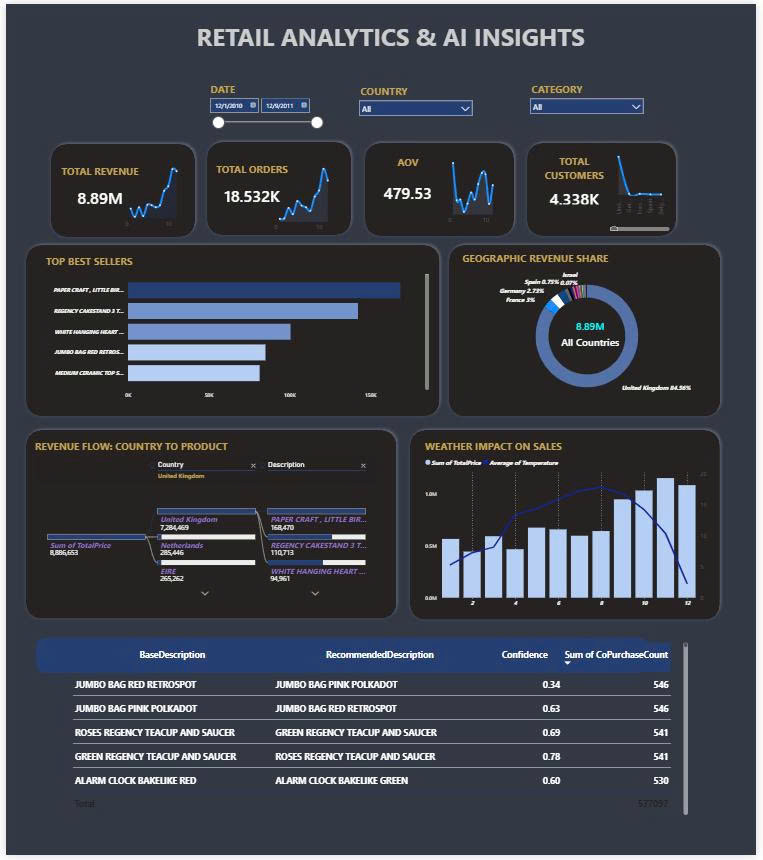

The page's visual inventory and layout, read from the dashboard file:
{"tool":"powerbi","page":{"name":"Page 1","canvas":[1500,1700],"ordinal":0},"visuals":[{"type":"cardVisual","title":"TOTAL CUSTOMERS","fields":{"Data":["Count(retail_analytics fact_sales.CustomerID)"]},"box":[1073.8,301.4,165.2,114],"z":0,"group":"g16"},{"type":"cardVisual","title":"AOV","fields":{"Data":["retail_analytics fact_sales.AOV"]},"box":[731.1,302.2,183.8,114],"z":0,"group":"g17"},{"type":"cardVisual","title":"TOTAL ORDERS","fields":{"Data":["Count(retail_analytics fact_sales.InvoiceNo)"]},"box":[417.6,314.6,188.4,97.7],"z":0,"group":"g15"},{"type":"cardVisual","title":"TOTAL REVENUE","fields":{"Data":["Sum(retail_analytics fact_sales.TotalPrice)"]},"box":[112.8,319.6,188.4,97.7],"z":0,"group":"g14"},{"type":"shape","box":[818.8,844.2,635.8,395.7],"z":0},{"type":"areaChart","fields":{"Y":["Sum(retail_analytics gold_sales_by_date.TotalRevenue)"],"Category":["retail_analytics gold_sales_by_date.Month"]},"box":[243.9,268.3,155.4,203.6],"z":1000,"group":"g14"},{"type":"areaChart","fields":{"Y":["Sum(retail_analytics gold_sales_by_date.NumberOfInvoices)"],"Category":["retail_analytics gold_sales_by_date.Month"]},"box":[542.8,301.4,160.7,167.9],"z":1000,"group":"g15"},{"type":"shape","box":[50.8,474.7,843.3,358.3],"z":1000,"group":"g9"},{"type":"shape","box":[109.8,1251.9,1226,70],"z":1000},{"type":"shape","box":[413.3,268.4,304,202],"z":2000},{"type":"shape","box":[729.6,269.5,314,202],"z":2000,"group":"g13"},{"type":"shape","box":[1052.9,269.5,314,202],"z":2000,"group":"g5"},{"type":"shape","box":[51.1,844.2,757.1,393.1],"z":2000,"group":"g6"},{"type":"shape","box":[102.4,271.1,304,202],"z":3000},{"type":"group","id":"g1","title":"Group 2","box":[731.1,290.5,297.7,174],"z":4000,"group":"g13"},{"type":"group","id":"g2","title":"Group 2","box":[1073.8,290.5,278.3,174],"z":4000,"group":"g5"},{"type":"shape","box":[896.6,474.3,558.6,358.6],"z":4000},{"type":"group","id":"g3","title":"Group 13","box":[417.6,301.4,285.9,167.9],"z":7000},{"type":"group","id":"g4","title":"Group 10","box":[116.8,1260.7,1243.3,355],"z":8000},{"type":"group","id":"g5","title":"Group 14","box":[1052.9,269.5,314.1,202.4],"z":9000},{"type":"slicer","fields":{"Values":["retail_analytics dim_product.Description"]},"box":[1057.9,150.3,246.7,170],"z":10000},{"type":"group","id":"g6","title":"Group 16","box":[51.1,844.2,757.1,393.1],"z":10000,"group":"g10"},{"type":"slicer","fields":{"Values":["retail_analytics dim_customer.Country","retail_analytics fact_sales.CustomerID"]},"box":[714.5,153.7,246.7,93.3],"z":11000},{"type":"slicer","fields":{"Values":["retail_analytics dim_date.FullDate"]},"box":[414.5,150.3,246.7,163.3],"z":12000},{"type":"group","id":"g7","title":"Group 13","box":[1073.8,301.4,165.2,114],"z":12000,"group":"g2"},{"type":"group","id":"g8","title":"Group 13","box":[731.1,302.2,183.8,114],"z":12000,"group":"g1"},{"type":"donutChart","title":"GEOGRAPHIC REVENUE SHARE","fields":{"Y":["Sum(retail_analytics fact_sales.UnitPrice)"],"Category":["retail_analytics dim_customer.Country"]},"box":[928.1,487.4,507.5,315],"z":13000},{"type":"group","id":"g9","title":"Group 3","box":[50.8,474.7,843.3,358.3],"z":14000},{"type":"barChart","title":"TOP BEST SELLERS","fields":{"Y":["Sum(retail_analytics fact_sales.TotalPrice)"],"Category":["retail_analytics dim_product.Description"]},"box":[86.9,489.7,790,315],"z":14000,"group":"g9"},{"type":"cardVisual","fields":{"Data":["Sum(retail_analytics fact_sales.TotalPrice)","retail_analytics fact_sales.Center Label - Country Name"]},"box":[1073.2,607.5,229.5,100.2],"z":15000},{"type":"decompositionTreeVisual","title":"REVENUE FLOW: COUNTRY TO PRODUCT","fields":{"Analyze":["Sum(retail_analytics fact_sales.TotalPrice)"],"ExplainBy":["retail_analytics dim_customer.Country","retail_analytics dim_product.Description"]},"box":[65.1,859.9,718.8,361.8],"z":15000,"group":"g10"},{"type":"tableEx","title":"TOP PERFORMING COUNTRIES","fields":{"Values":["retail_analytics gold_product_recommendations.BaseDescription","retail_analytics gold_product_recommendations.RecommendedDescription","retail_analytics gold_product_recommendations.Confidence","Sum(retail_analytics gold_product_recommendations.CoPurchaseCount)"]},"box":[116.8,1260.7,1243.3,355],"z":15000,"group":"g12"},{"type":"group","id":"g10","title":"Group 8","box":[51.1,844.2,757.1,393.1],"z":16000},{"type":"textbox","box":[392.3,44.3,854.3,105.7],"z":17000},{"type":"group","id":"g11","title":"Group 13","box":[112.8,268.3,286.5,203.6],"z":18000},{"type":"group","id":"g12","title":"Group 6","box":[116.8,1260.7,1243.3,355],"z":18000,"group":"g4"},{"type":"group","id":"g13","title":"Group 14","box":[729.6,269.5,314.1,202.4],"z":19000},{"type":"areaChart","fields":{"Category":["retail_analytics gold_sales_by_date.Month"],"Y":["retail_analytics fact_sales.AOV"]},"box":[890.8,290.5,138,174],"z":19000,"group":"g1"},{"type":"areaChart","fields":{"Y":["Sum(retail_analytics gold_sales_by_country.NumberOfCustomers)"],"Category":["retail_analytics gold_sales_by_country.Country"]},"box":[1214.1,290.5,138,174],"z":19000,"group":"g2"},{"type":"lineStackedColumnComboChart","title":"WEATHER IMPACT ON SALES","fields":{"Category":["retail_analytics dim_date.Month"],"Y":["Sum(retail_analytics fact_sales.TotalPrice)"],"Y2":["Avg(retail_analytics dim_weather.Temperature)"]},"box":[845.1,860,587.1,361.4],"z":20000},{"type":"group","id":"g14","title":"Group 5","box":[112.8,268.3,286.5,203.6],"z":30003,"group":"g11"},{"type":"group","id":"g15","title":"Group 5","box":[417.6,301.4,285.9,167.9],"z":30003,"group":"g3"},{"type":"group","id":"g16","title":"Group 5","box":[1073.8,301.4,165.2,114],"z":30003,"group":"g7"},{"type":"group","id":"g17","title":"Group 5","box":[731.1,302.2,183.8,114],"z":30003,"group":"g8"}]}

Visuals, with their boxes in screenshot pixels (x1, y1, x2, y2), scaled from the page's 1500x1700 canvas onto the 763x860 screenshot:
"TOTAL CUSTOMERS" cardVisual: [left=546, top=152, right=630, bottom=210]
"AOV" cardVisual: [left=372, top=153, right=465, bottom=211]
"TOTAL ORDERS" cardVisual: [left=212, top=159, right=308, bottom=209]
"TOTAL REVENUE" cardVisual: [left=57, top=162, right=153, bottom=211]
shape: [left=416, top=427, right=740, bottom=627]
areaChart - Sum(retail_analytics gold_sales_by_date.TotalRevenue) x retail_analytics gold_sales_by_date.Month: [left=124, top=136, right=203, bottom=239]
areaChart - Sum(retail_analytics gold_sales_by_date.NumberOfInvoices) x retail_analytics gold_sales_by_date.Month: [left=276, top=152, right=358, bottom=237]
shape: [left=26, top=240, right=455, bottom=421]
shape: [left=56, top=633, right=679, bottom=669]
shape: [left=210, top=136, right=365, bottom=238]
shape: [left=371, top=136, right=531, bottom=239]
shape: [left=536, top=136, right=695, bottom=239]
shape: [left=26, top=427, right=411, bottom=626]
shape: [left=52, top=137, right=207, bottom=239]
"Group 2" group: [left=372, top=147, right=523, bottom=235]
"Group 2" group: [left=546, top=147, right=688, bottom=235]
shape: [left=456, top=240, right=740, bottom=421]
"Group 13" group: [left=212, top=152, right=358, bottom=237]
"Group 10" group: [left=59, top=638, right=692, bottom=817]
"Group 14" group: [left=536, top=136, right=695, bottom=239]
slicer - retail_analytics dim_product.Description: [left=538, top=76, right=664, bottom=162]
"Group 16" group: [left=26, top=427, right=411, bottom=626]
slicer - retail_analytics dim_customer.Country x retail_analytics fact_sales.CustomerID: [left=363, top=78, right=489, bottom=125]
slicer - retail_analytics dim_date.FullDate: [left=211, top=76, right=336, bottom=159]
"Group 13" group: [left=546, top=152, right=630, bottom=210]
"Group 13" group: [left=372, top=153, right=465, bottom=211]
"GEOGRAPHIC REVENUE SHARE" donutChart: [left=472, top=247, right=730, bottom=406]
"Group 3" group: [left=26, top=240, right=455, bottom=421]
"TOP BEST SELLERS" barChart: [left=44, top=248, right=446, bottom=407]
cardVisual - Sum(retail_analytics fact_sales.TotalPrice) x retail_analytics fact_sales.Center Label - Country Name: [left=546, top=307, right=663, bottom=358]
"REVENUE FLOW: COUNTRY TO PRODUCT" decompositionTreeVisual: [left=33, top=435, right=399, bottom=618]
"TOP PERFORMING COUNTRIES" tableEx: [left=59, top=638, right=692, bottom=817]
"Group 8" group: [left=26, top=427, right=411, bottom=626]
textbox: [left=200, top=22, right=634, bottom=76]
"Group 13" group: [left=57, top=136, right=203, bottom=239]
"Group 6" group: [left=59, top=638, right=692, bottom=817]
"Group 14" group: [left=371, top=136, right=531, bottom=239]
areaChart - retail_analytics gold_sales_by_date.Month x retail_analytics fact_sales.AOV: [left=453, top=147, right=523, bottom=235]
areaChart - Sum(retail_analytics gold_sales_by_country.NumberOfCustomers) x retail_analytics gold_sales_by_country.Country: [left=618, top=147, right=688, bottom=235]
"WEATHER IMPACT ON SALES" lineStackedColumnComboChart: [left=430, top=435, right=729, bottom=618]
"Group 5" group: [left=57, top=136, right=203, bottom=239]
"Group 5" group: [left=212, top=152, right=358, bottom=237]
"Group 5" group: [left=546, top=152, right=630, bottom=210]
"Group 5" group: [left=372, top=153, right=465, bottom=211]
